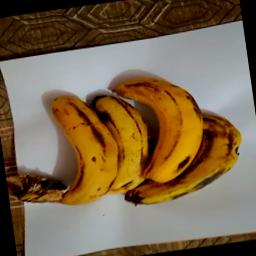Banana Unripe: (39, 68, 250, 217)
